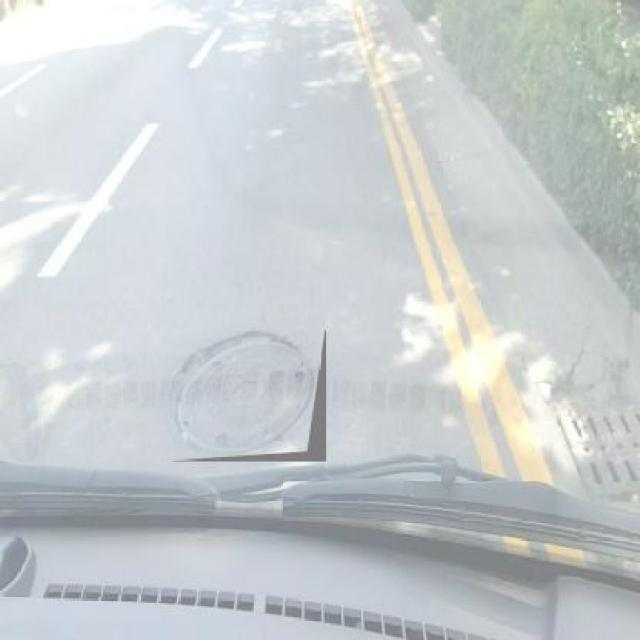Manhole: (172, 331, 326, 462), (552, 383, 639, 498)
